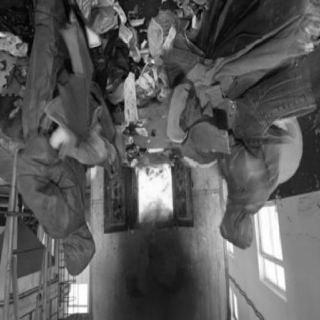Fire: (137, 160, 174, 229)
Smoke: (119, 242, 195, 316)
other: (86, 9, 120, 43)
